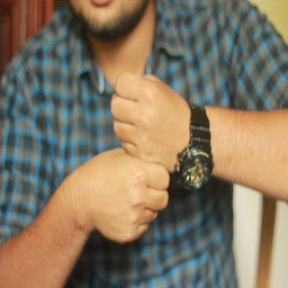G: (89, 69, 185, 242)
